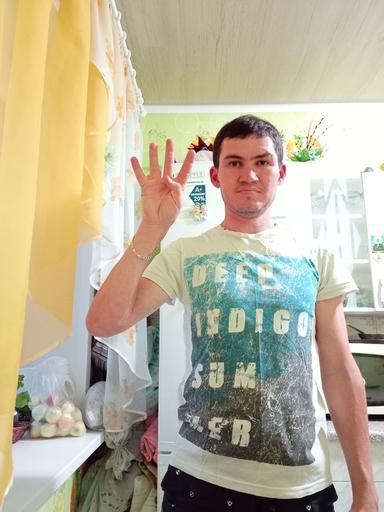four: (129, 136, 197, 230)
